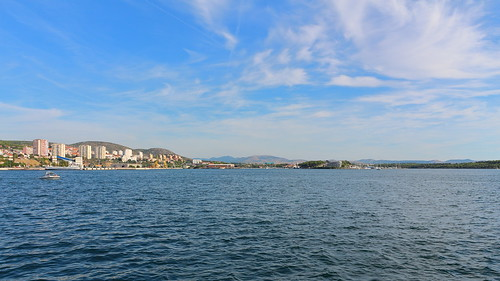sea: (1, 173, 499, 281)
sky: (10, 1, 500, 146)
